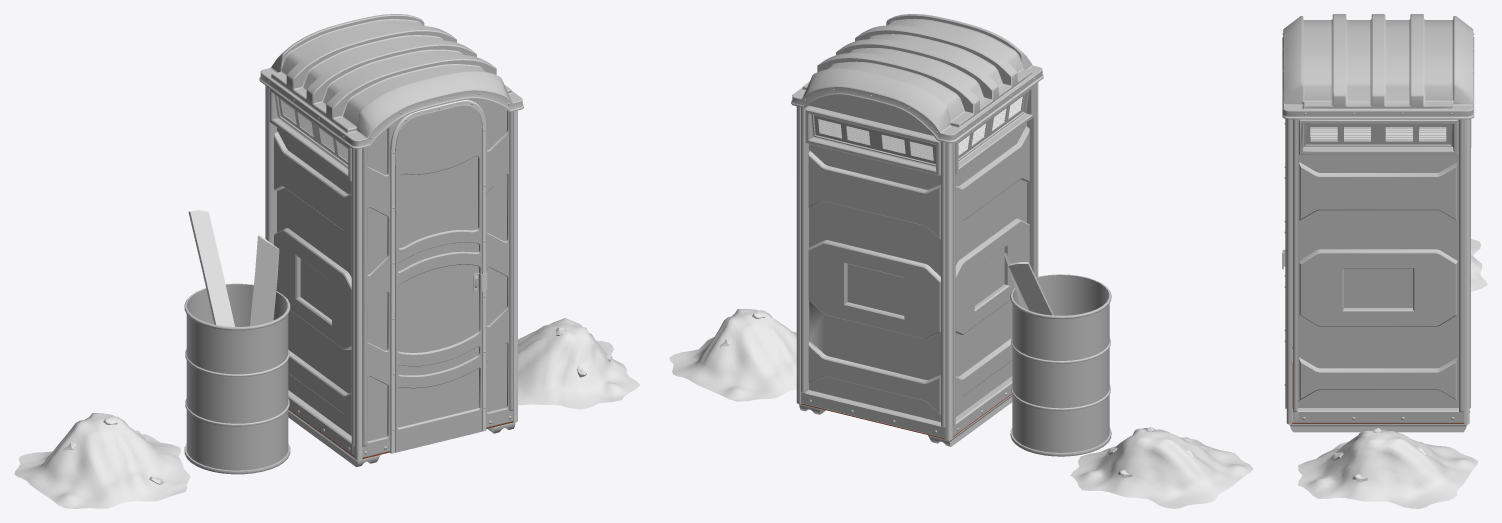
Rendered from KB3D_CTS_BldgSM_L.fbx.
3 views of the same model, side by side, from view 1: azimuth 30°, elevation 25°; view 2: azimuth 150°, elevation 25°; view 3: azimuth 270°, elevation 25° (orthographic). The views are drawn at different scales.
Parts seen in each view (by area): view 1: KB3D_CTS_BldgSM_L_ToiToi, KB3D_CTS_BldgSM_L_Barrel, KB3D_CTS_BldgSM_L_DirtB, KB3D_CTS_BldgSM_L_DirtA; view 2: KB3D_CTS_BldgSM_L_ToiToi, KB3D_CTS_BldgSM_L_Barrel, KB3D_CTS_BldgSM_L_DirtB, KB3D_CTS_BldgSM_L_DirtA; view 3: KB3D_CTS_BldgSM_L_ToiToi, KB3D_CTS_BldgSM_L_DirtA, KB3D_CTS_BldgSM_L_DirtB.
Boxes of the visible parts, box(x1,y1,x2,y2) form: KB3D_CTS_BldgSM_L_ToiToi: box(259, 14, 523, 466); KB3D_CTS_BldgSM_L_Barrel: box(184, 210, 290, 474); KB3D_CTS_BldgSM_L_DirtB: box(14, 413, 190, 508); KB3D_CTS_BldgSM_L_DirtA: box(518, 318, 640, 409); KB3D_CTS_BldgSM_L_ToiToi: box(791, 14, 1043, 446); KB3D_CTS_BldgSM_L_Barrel: box(1004, 252, 1111, 456); KB3D_CTS_BldgSM_L_DirtB: box(1070, 427, 1253, 508); KB3D_CTS_BldgSM_L_DirtA: box(669, 309, 796, 401); KB3D_CTS_BldgSM_L_ToiToi: box(1282, 14, 1474, 432); KB3D_CTS_BldgSM_L_DirtA: box(1298, 428, 1477, 508); KB3D_CTS_BldgSM_L_DirtB: box(1471, 239, 1487, 292).
Size of the model in its own units: 376 by 227 by 117.
